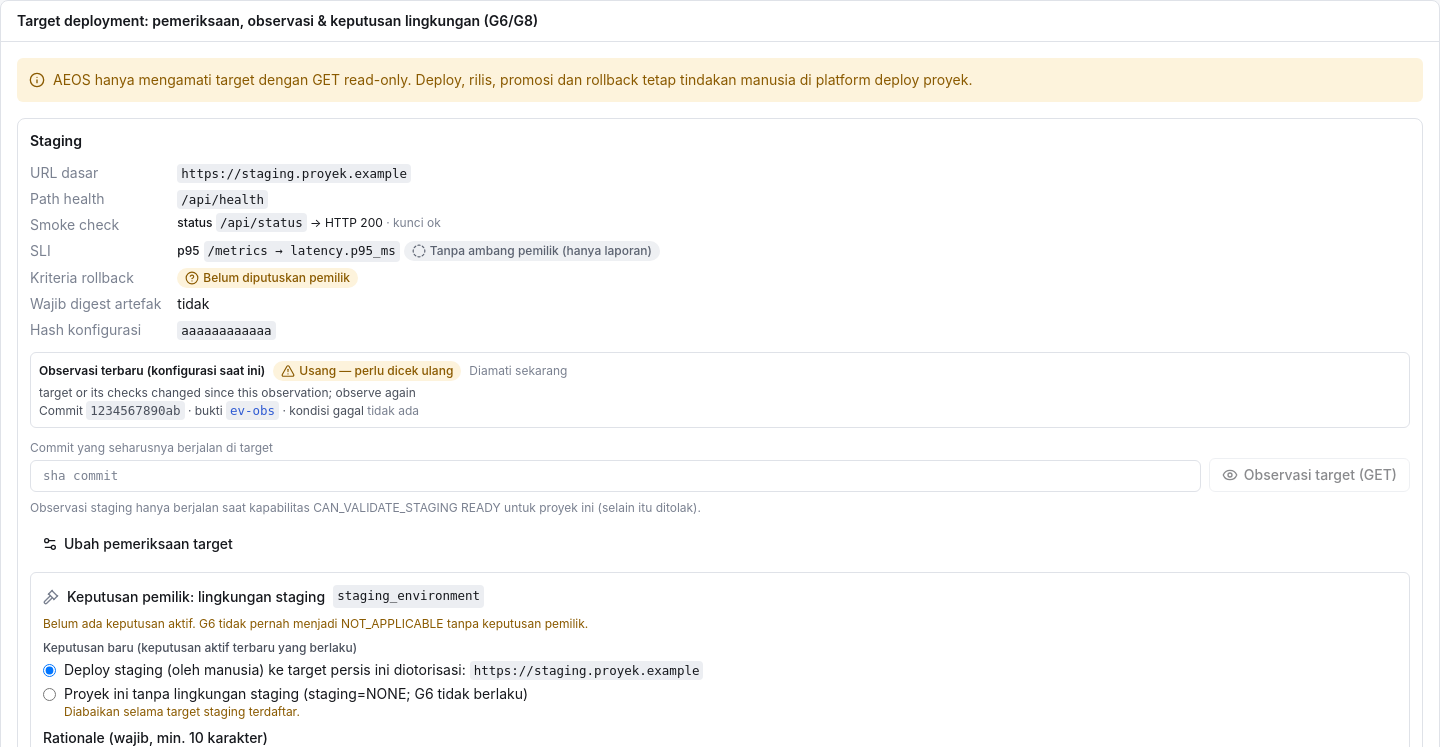
deployment targets panel (G6/G8, observe-only) › an invalid check path keeps the editor from saving and says why (aria-live)
The image size is (1440, 747).
Click the button "Ubah pemeriksaan target" at (137, 544), box x1=30 y1=528 x2=245 y2=560
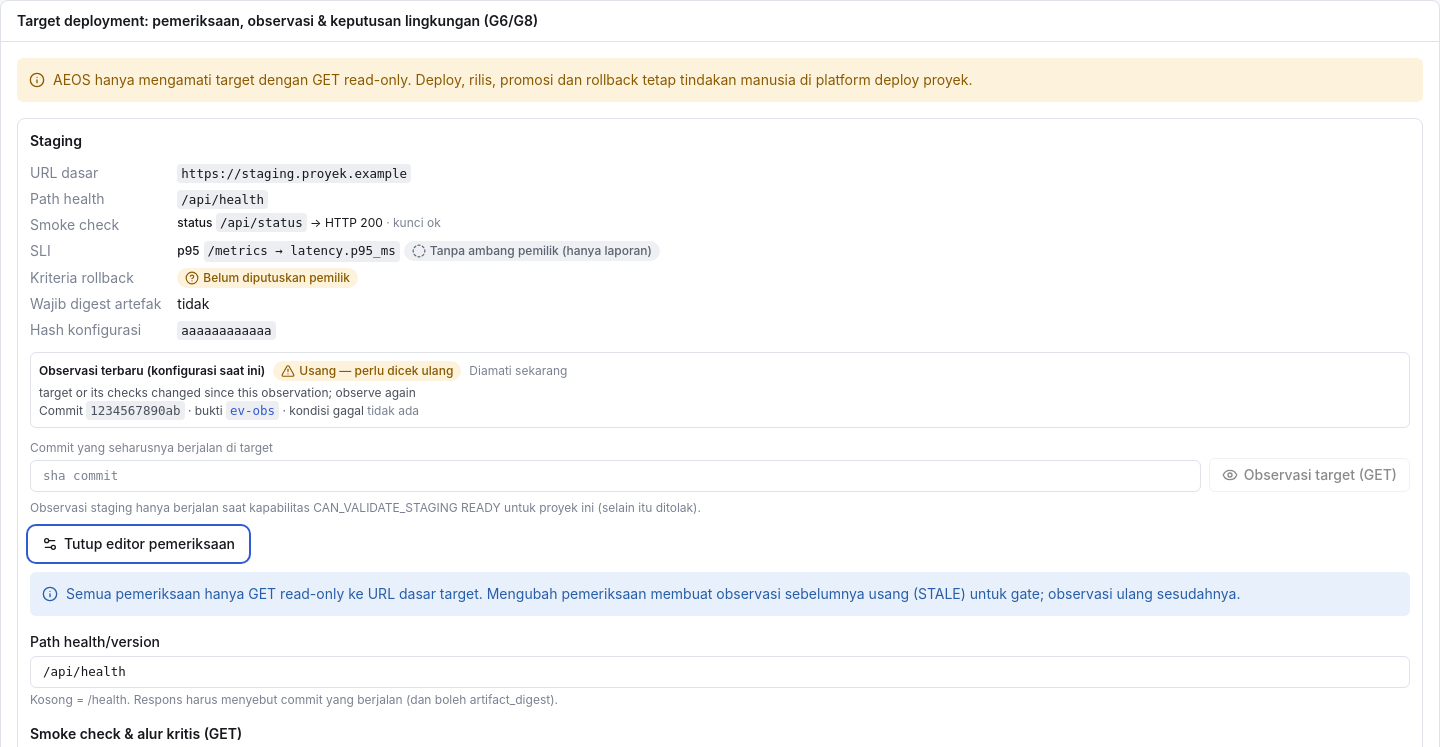
Replace the text in the field labelled "Path health/version" with "@other.host/health" at (720, 672), box x1=30 y1=656 x2=1410 y2=688
(page scrolled)
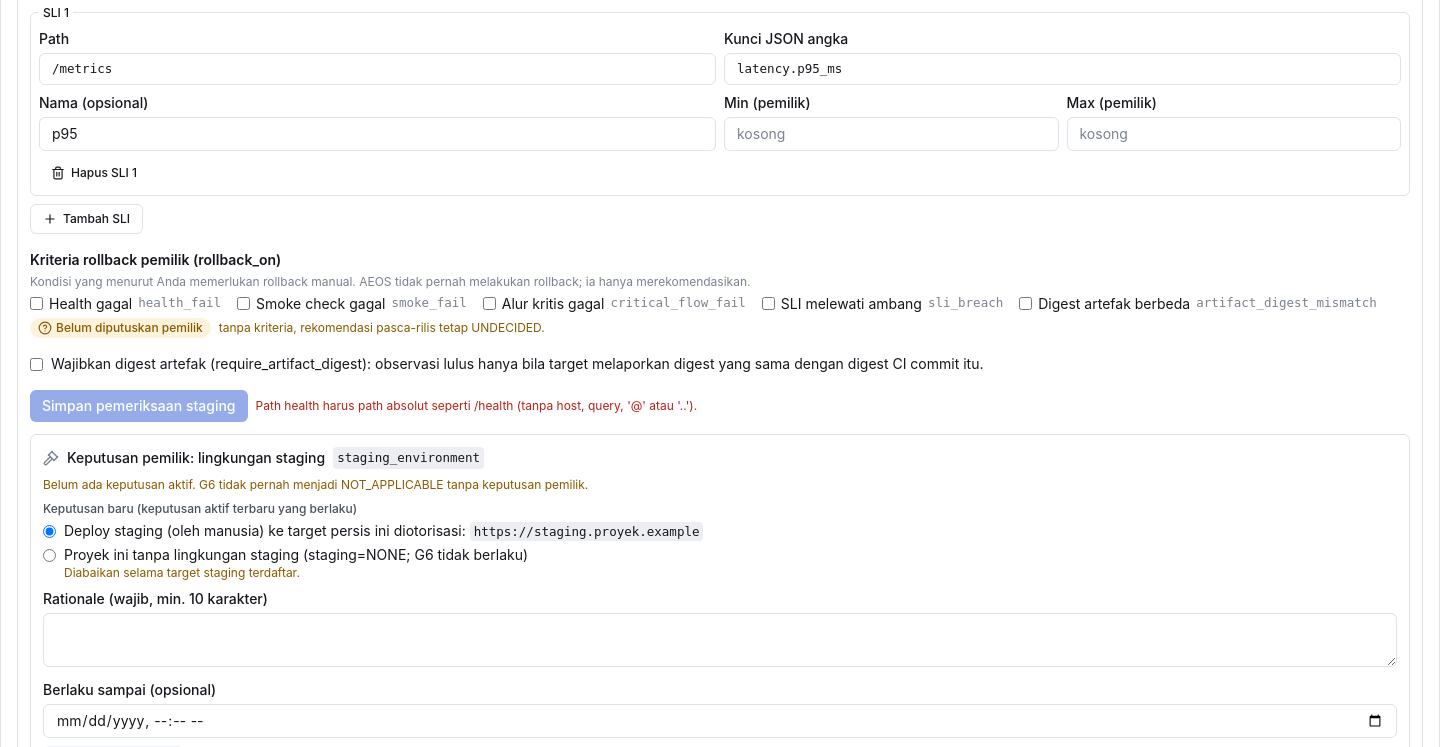
Now the button "Simpan pemeriksaan staging" is disabled, box x1=30 y1=390 x2=248 y2=422
Now the text "Path health harus path absolut" is shown, box x1=256 y1=398 x2=697 y2=413
